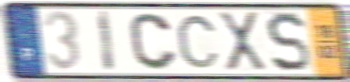3: (41, 8, 83, 73)
C: (127, 11, 179, 72), (174, 13, 222, 70)
I: (97, 9, 118, 75)
S: (264, 10, 312, 75)
X: (216, 10, 269, 74)
